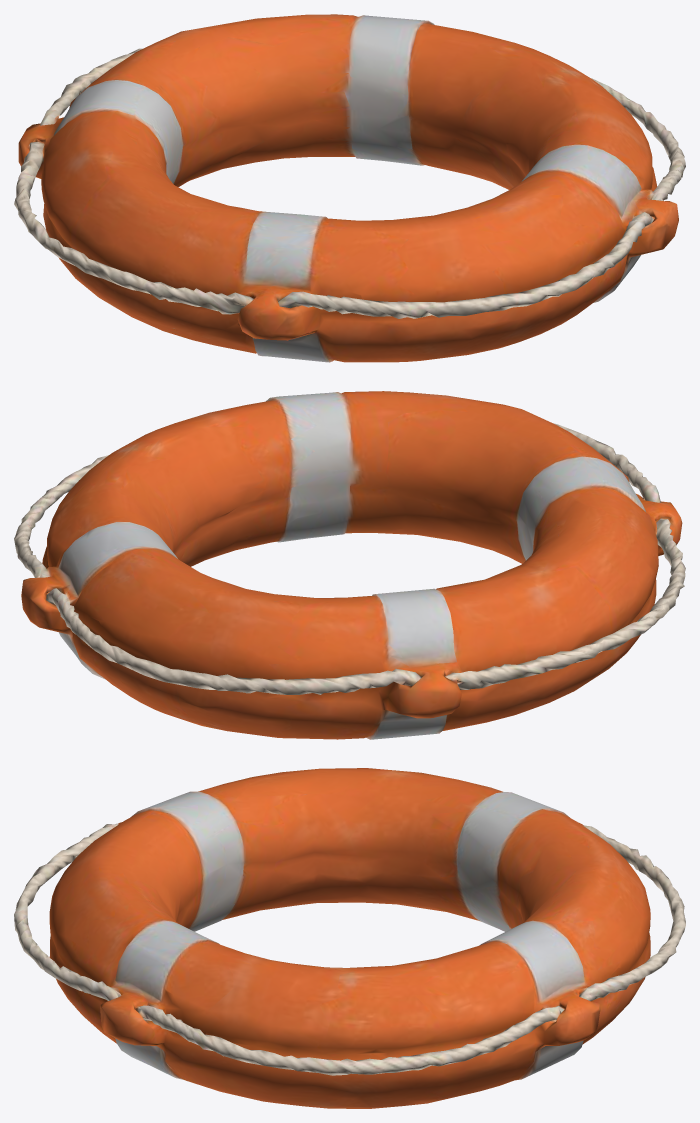
Rendered from gen-ring-buoy.glb.
3 renders of one model, top to bottom at view 1: azimuth 30°, elevation 25°; view 2: azimuth 150°, elevation 25°; view 3: azimuth 270°, elevation 25°, orthographic. The views are drawn at different scales.
Visible parts, largest first — view 1: tripo_node_f8c09069-0636-4175-83f0-e729a29a7a0f; view 2: tripo_node_f8c09069-0636-4175-83f0-e729a29a7a0f; view 3: tripo_node_f8c09069-0636-4175-83f0-e729a29a7a0f.
Part boxes in pixels (x1,y1,x2,y2): tripo_node_f8c09069-0636-4175-83f0-e729a29a7a0f: [14, 14, 685, 362]; tripo_node_f8c09069-0636-4175-83f0-e729a29a7a0f: [14, 391, 685, 739]; tripo_node_f8c09069-0636-4175-83f0-e729a29a7a0f: [14, 768, 685, 1108].
Bounding box in the file's own units: 0.9863 × 0.219 × 1.
1 material, 1 textured.
